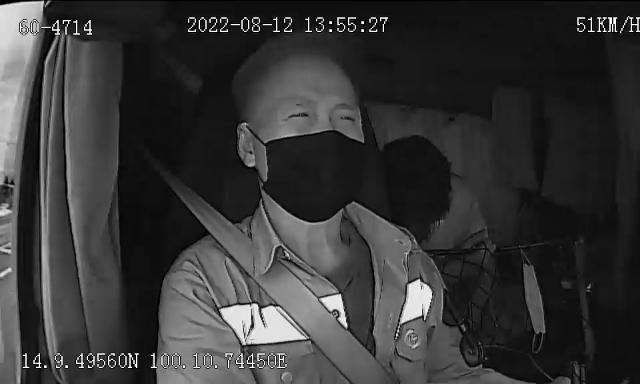SafeDriving: (276, 105, 316, 127), (329, 106, 362, 128)
Seatbelt: (168, 178, 394, 384)
